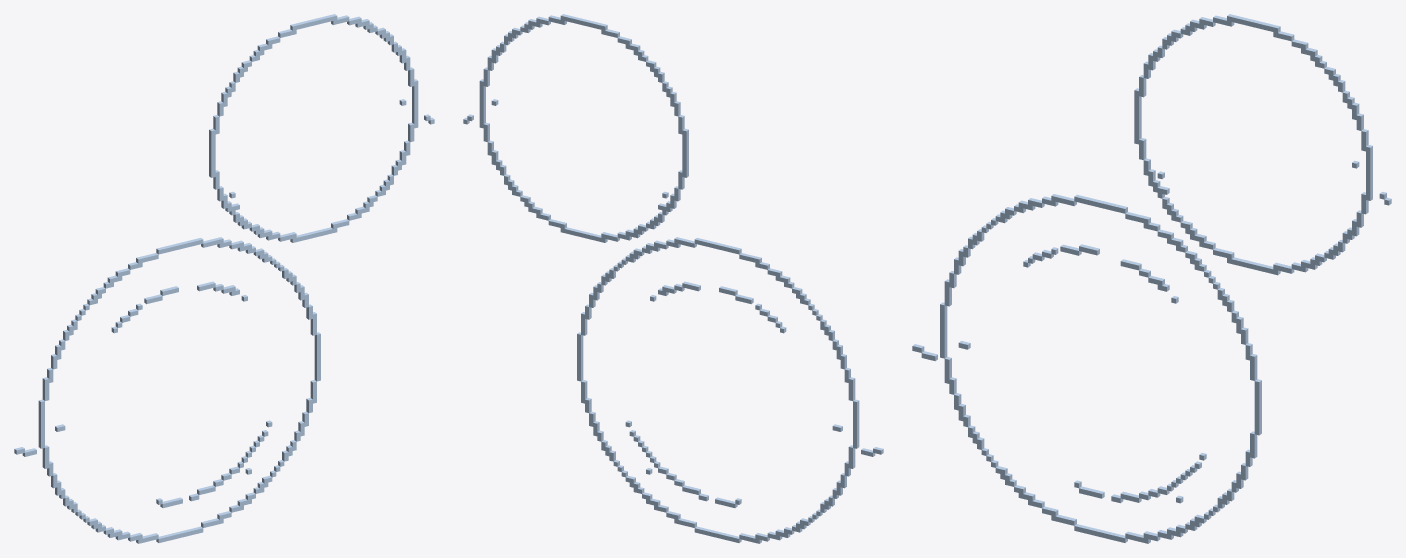
File: Fight_724_2_11_fx.obj
The picture shows the model from 3 angles, left to right: view 1: azimuth 30°, elevation 25°; view 2: azimuth 150°, elevation 25°; view 3: azimuth 330°, elevation 25°; orthographic projection. The views are drawn at different scales.
Bounding box in the file's own units: 10.3 × 11.4 × 0.1.
